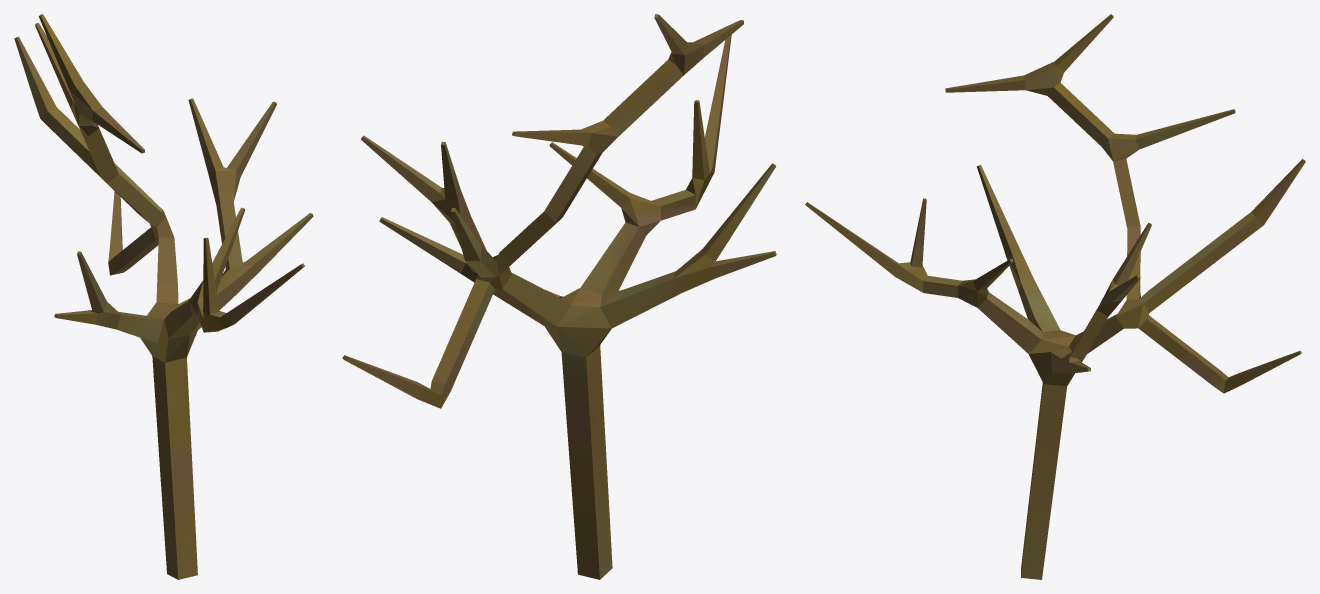
Rendered from SM_Bush.fbx.
The picture shows the model from 3 angles, left to right: view 1: azimuth 30°, elevation 25°; view 2: azimuth 150°, elevation 25°; view 3: azimuth 270°, elevation 25°; orthographic projection. The views are drawn at different scales.
Visible parts, largest first — view 1: SM_Bush; view 2: SM_Bush; view 3: SM_Bush.
Boxes of the visible parts, left/top/right/bottom form: SM_Bush: left=14, top=14, right=313, bottom=579; SM_Bush: left=342, top=14, right=776, bottom=579; SM_Bush: left=805, top=14, right=1305, bottom=579.
Size of the model in its own units: 37.92 by 65.53 by 57.61.
